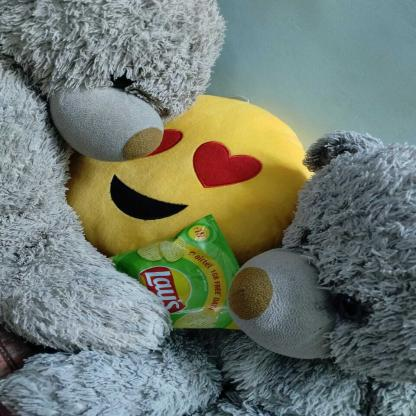cream_and_onion: (98, 213, 237, 330)
